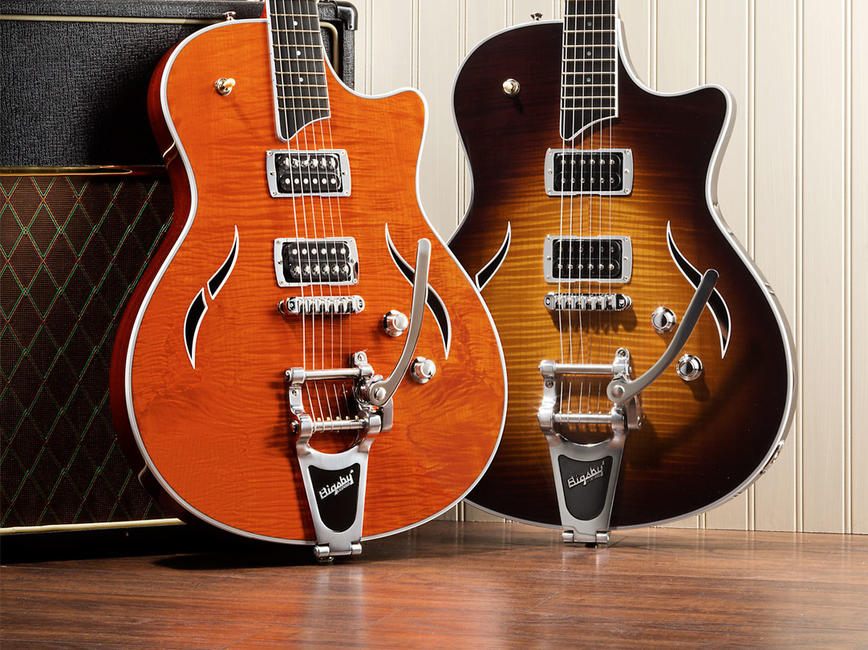ElectricGuitar: (164, 19, 494, 544), (511, 5, 817, 557)
